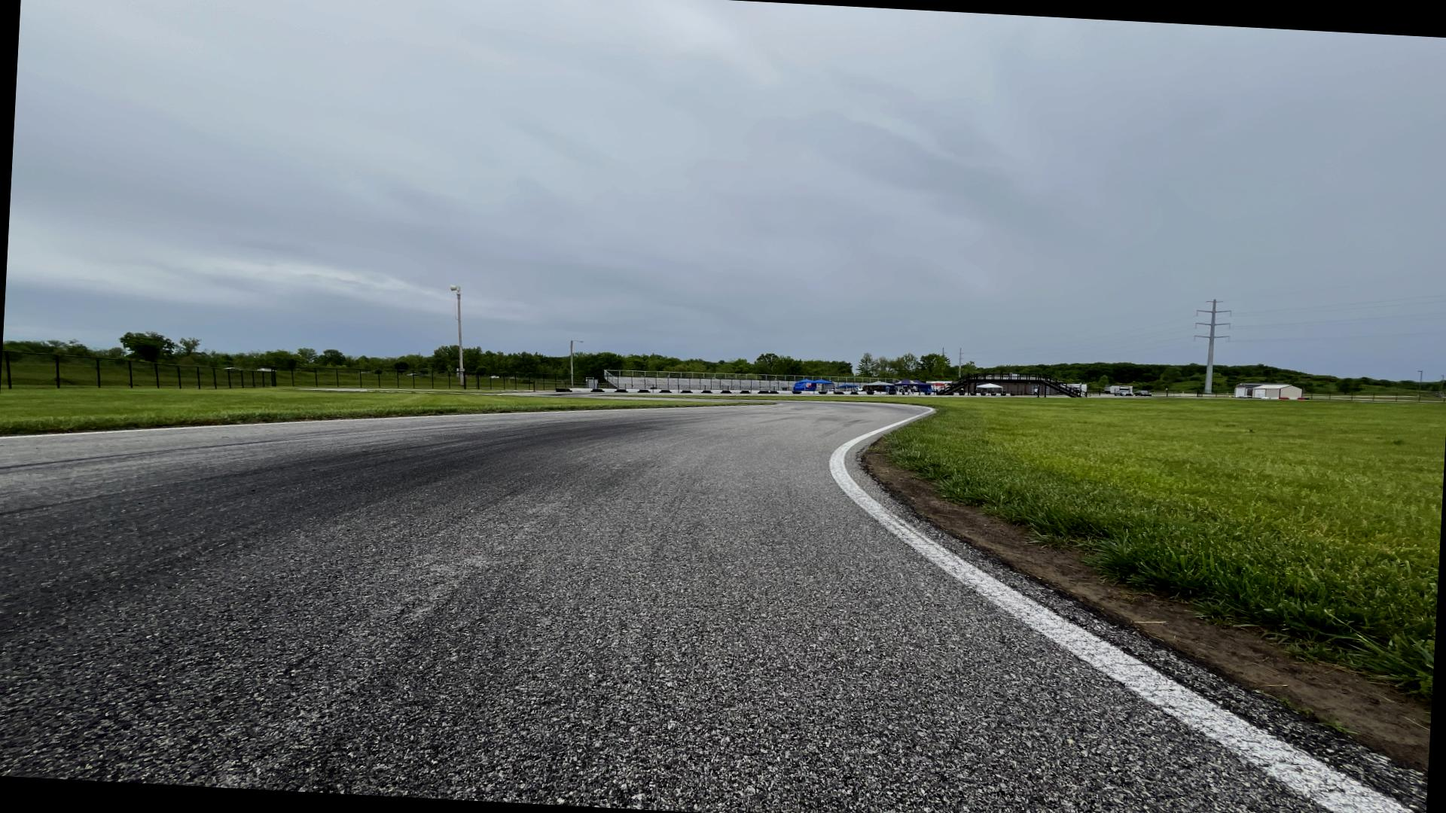white-line: (825, 402, 1417, 812), (0, 404, 781, 439)
